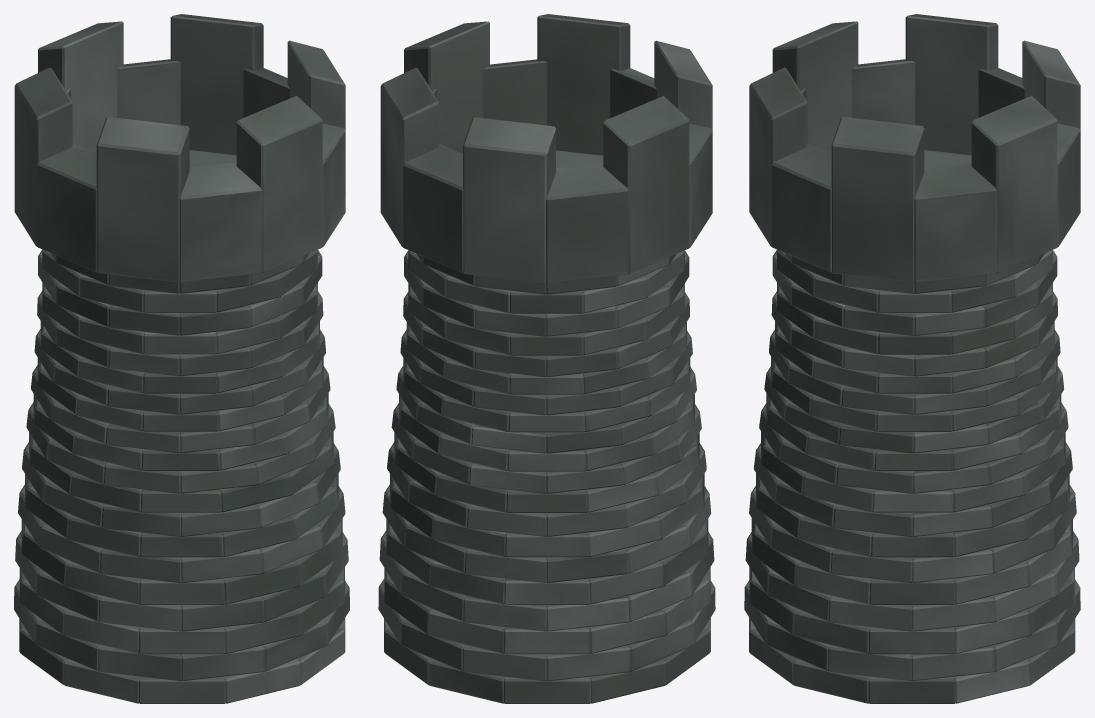
Rendered from Medieval Tower Wall_1.fbx.
The picture shows the model from 3 angles, left to right: view 1: azimuth 30°, elevation 25°; view 2: azimuth 150°, elevation 25°; view 3: azimuth 270°, elevation 25°; orthographic projection.
Visible parts, largest first — view 1: Medieval Wall Tower.005; view 2: Medieval Wall Tower.005; view 3: Medieval Wall Tower.005.
Part boxes in pixels (bbox=[...]): Medieval Wall Tower.005: bbox=[14, 14, 349, 703]; Medieval Wall Tower.005: bbox=[378, 14, 715, 703]; Medieval Wall Tower.005: bbox=[744, 14, 1080, 703].
Bounding box in the file's own units: 351 × 649 × 350.
Materials: 1 (1 with a texture image).
